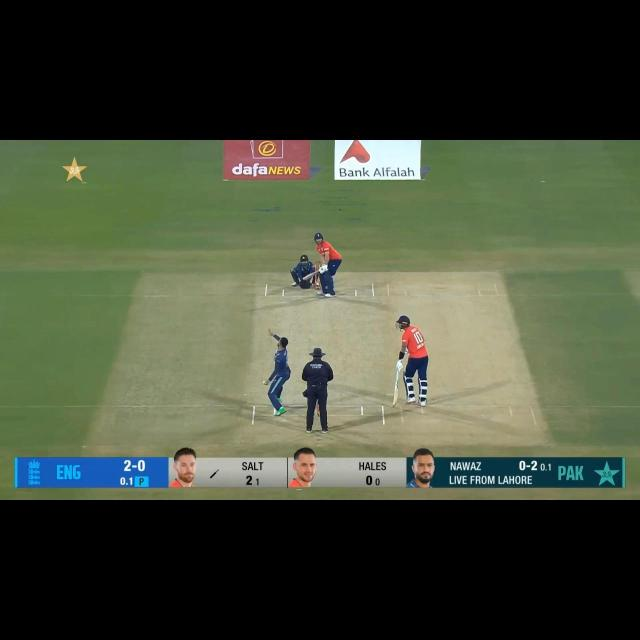bat: (392, 380, 400, 408), (303, 272, 315, 281)
toe: (390, 396, 400, 406), (302, 275, 308, 282)
